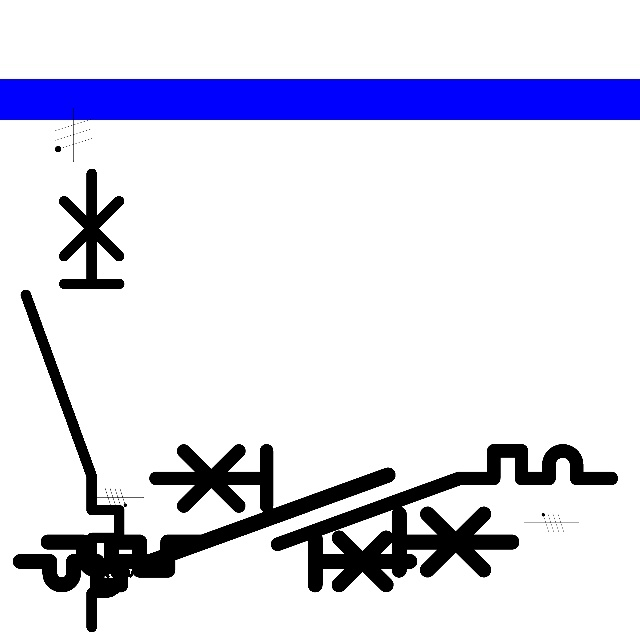interruptor_termomagnetico: (36, 463, 524, 582), (144, 439, 623, 556), (14, 161, 131, 638), (10, 495, 420, 595)
